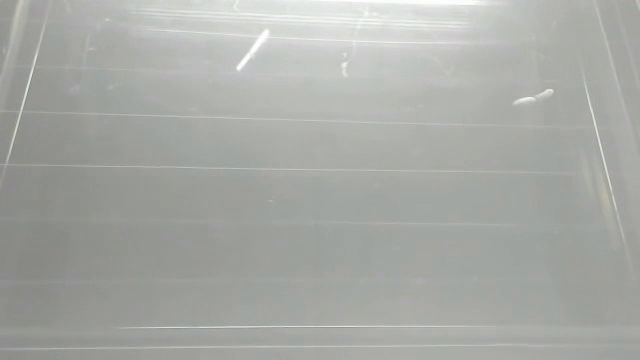alpha: (233, 27, 272, 75), (510, 86, 557, 110)
